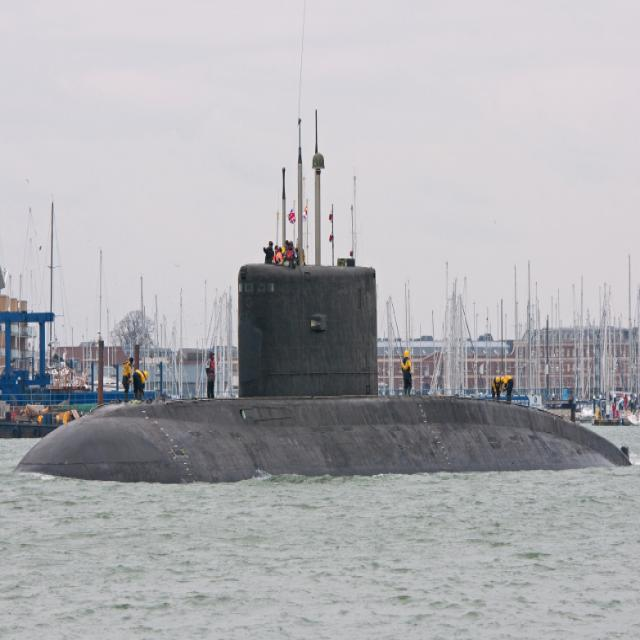submarine: (13, 261, 634, 487)
